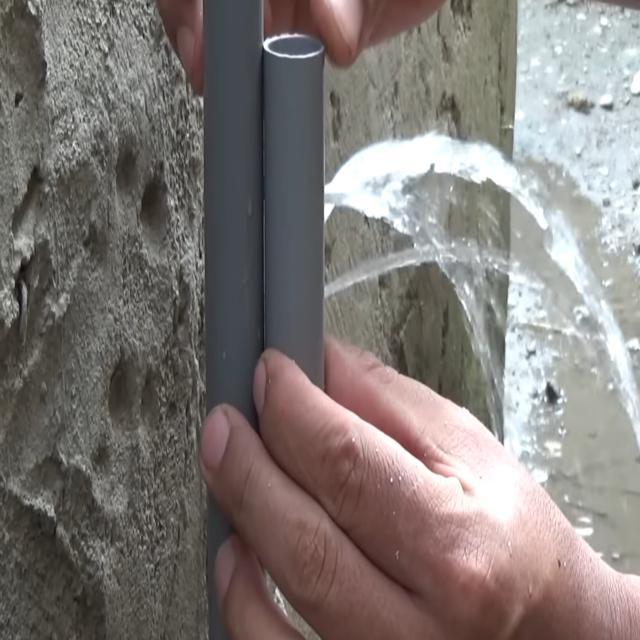leak: (325, 133, 640, 446)
